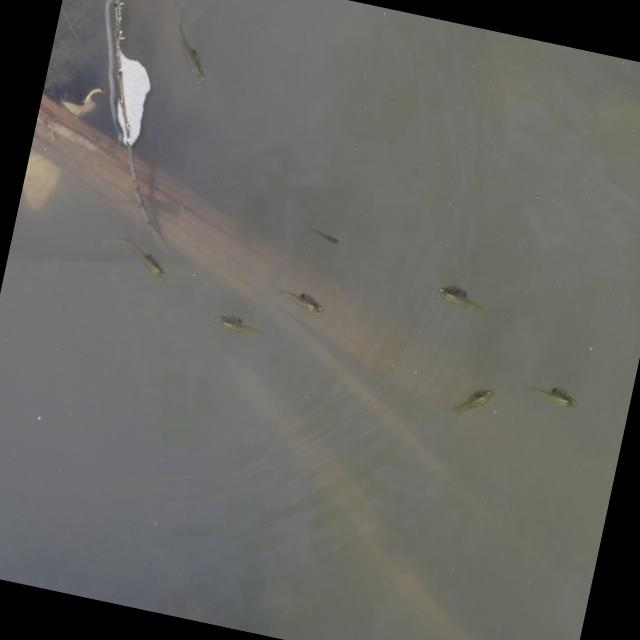Sivrisinek Baligi: (96, 210, 182, 290), (152, 0, 225, 94), (424, 272, 492, 326), (516, 371, 586, 422), (203, 298, 264, 354), (278, 275, 330, 326), (449, 374, 494, 418), (310, 222, 342, 255)
